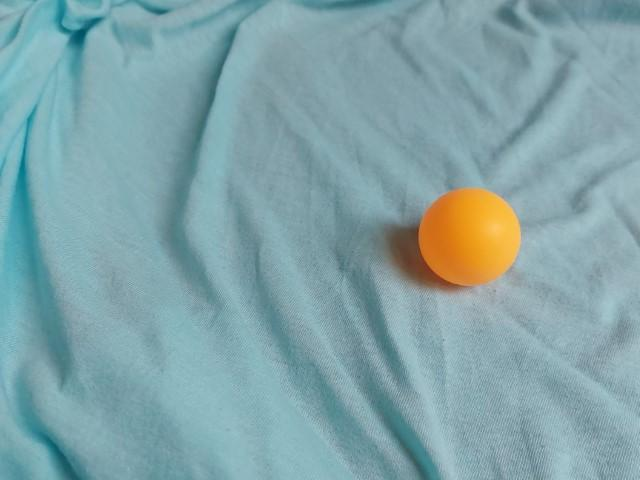oball: (407, 181, 533, 297)
